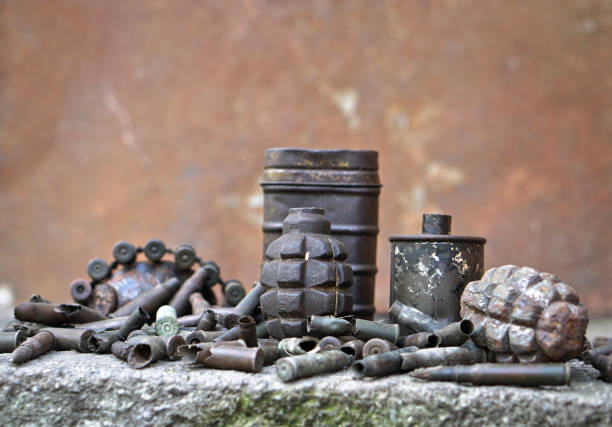e1: (455, 259, 594, 363), (255, 202, 354, 342)
